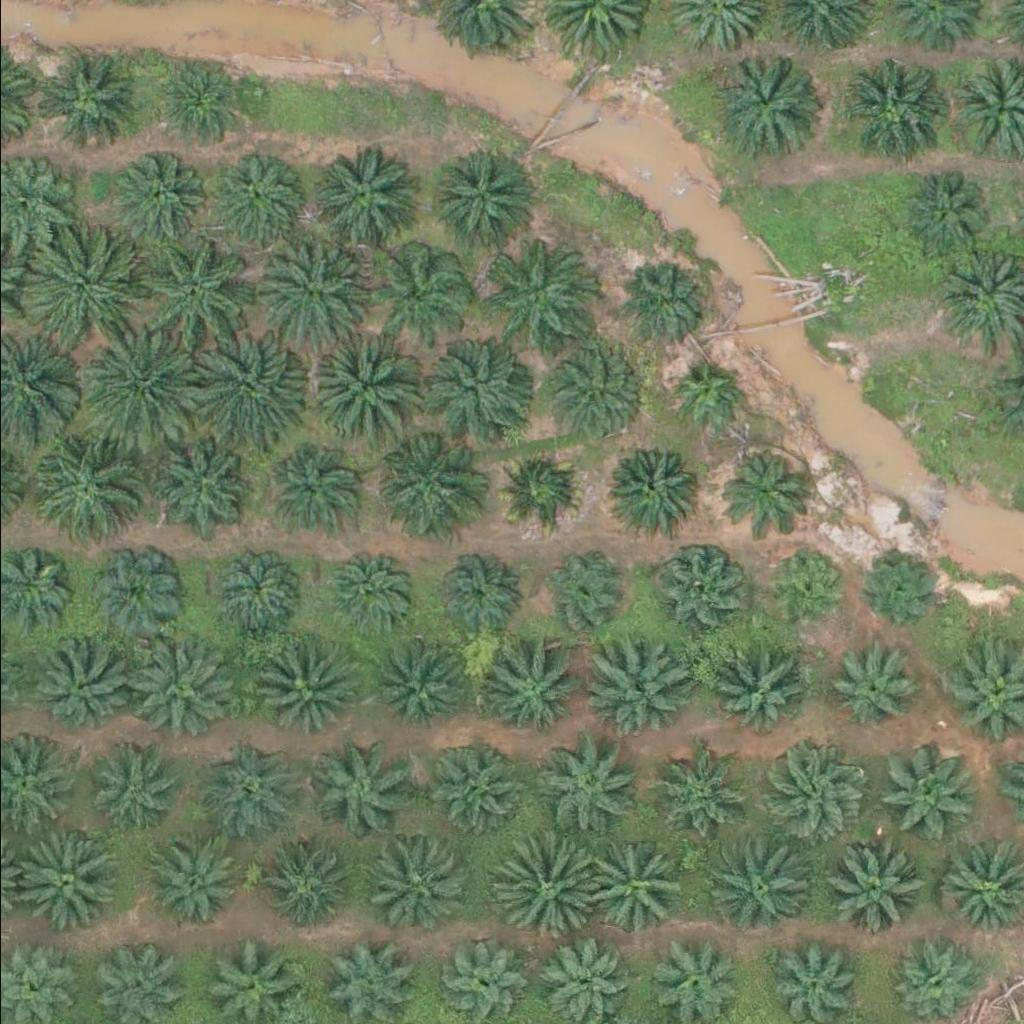Kelapa_Sawit: (83, 334, 196, 447), (194, 334, 307, 447), (312, 333, 425, 446), (427, 334, 540, 447), (252, 231, 365, 344), (23, 233, 136, 346), (487, 831, 601, 943), (121, 635, 235, 747), (9, 824, 122, 936), (368, 430, 481, 542), (18, 432, 131, 544), (138, 238, 251, 350), (143, 829, 244, 929), (576, 842, 677, 942), (528, 734, 629, 834), (418, 736, 519, 836), (74, 741, 175, 841), (482, 641, 583, 741), (82, 541, 183, 641), (142, 433, 243, 533), (482, 235, 583, 335), (370, 241, 471, 341), (216, 147, 317, 247), (308, 147, 409, 247), (434, 153, 535, 253), (36, 49, 137, 149), (710, 50, 811, 150), (762, 742, 863, 842), (821, 634, 922, 734), (366, 830, 466, 930), (309, 739, 409, 839), (185, 739, 285, 839), (702, 640, 802, 740), (586, 643, 686, 743), (249, 644, 349, 744), (28, 637, 128, 737), (204, 542, 304, 642), (548, 342, 648, 442), (115, 150, 215, 250), (823, 838, 923, 938), (708, 837, 808, 937), (878, 746, 978, 846), (843, 59, 943, 159), (645, 933, 733, 1021), (262, 835, 350, 923), (644, 756, 732, 844), (378, 643, 466, 731), (757, 544, 845, 632), (539, 548, 627, 636), (427, 549, 515, 637), (322, 549, 410, 637), (619, 257, 707, 345), (656, 546, 744, 633), (715, 448, 803, 535), (610, 444, 698, 531), (492, 444, 580, 531), (271, 441, 359, 528), (161, 56, 249, 143), (856, 546, 944, 633), (903, 170, 991, 257), (665, 360, 741, 435)
